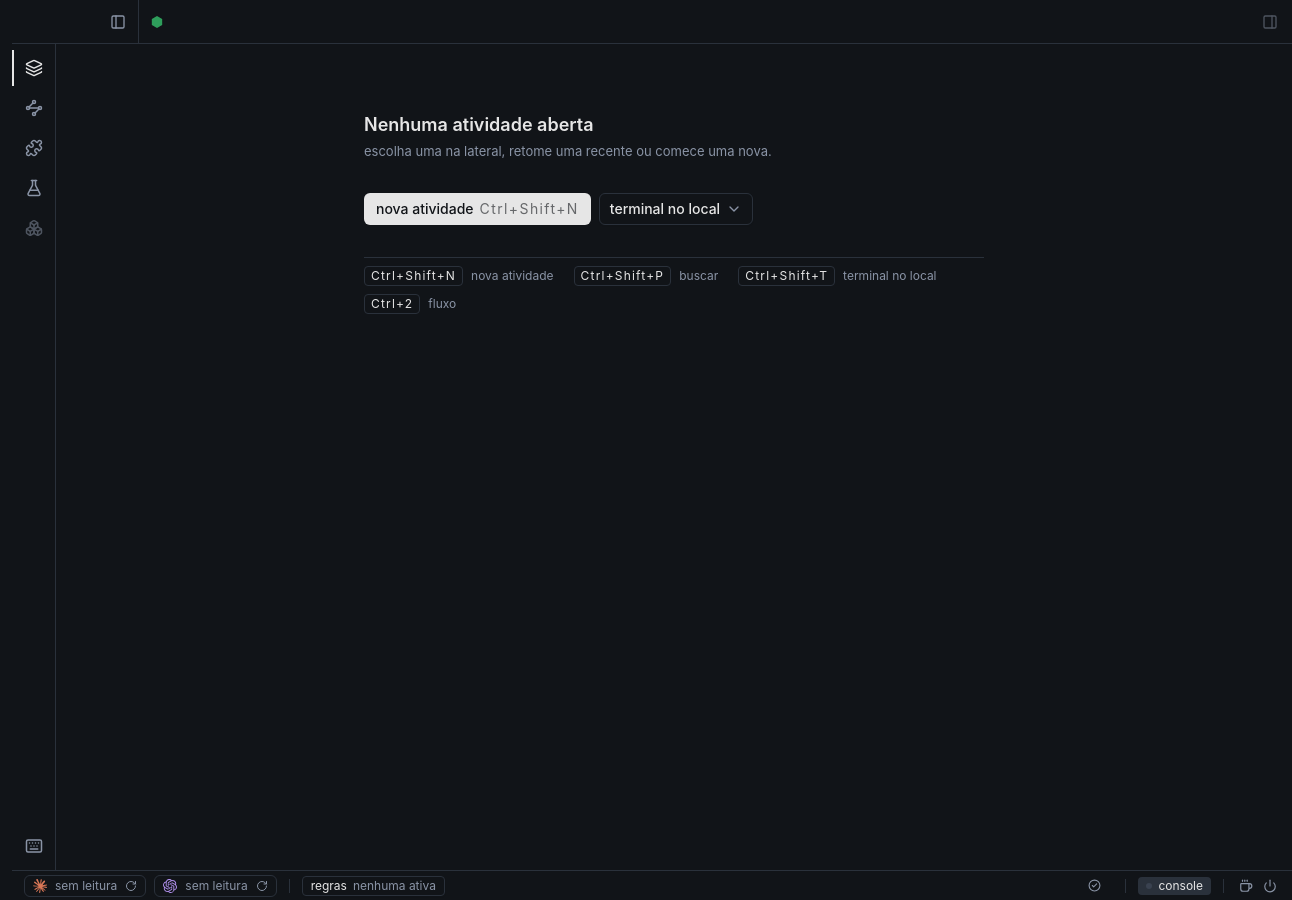
Test: Cmd+Shift+B hides the right panel, its body still mounted, and brings it back with Detalhes shown (#452)
Click the button named "fluxo" at [34, 108], box [12,90,56,126]
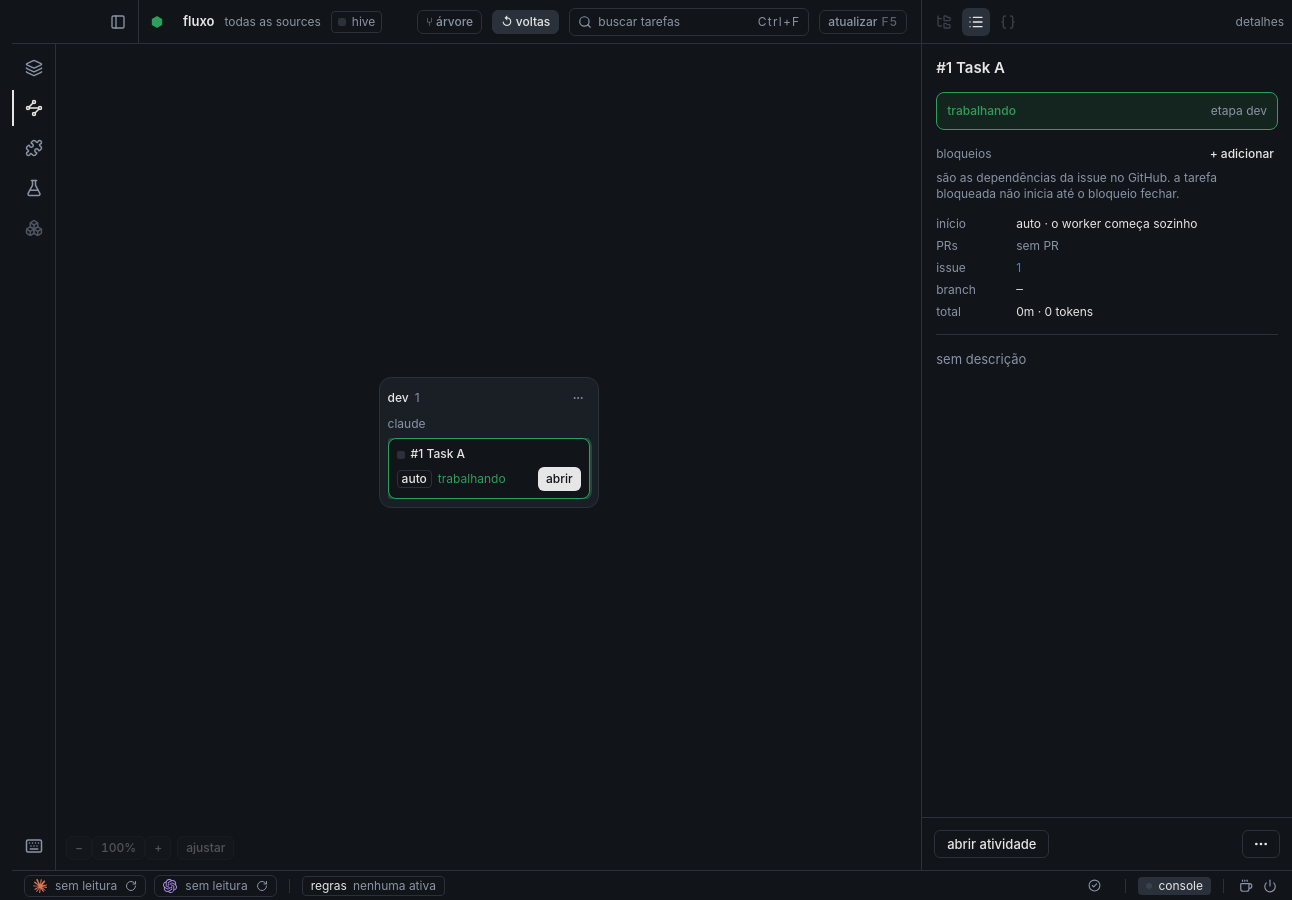
Check: the button named "detalhes" is pressed, box [962,8,990,36]
Press B
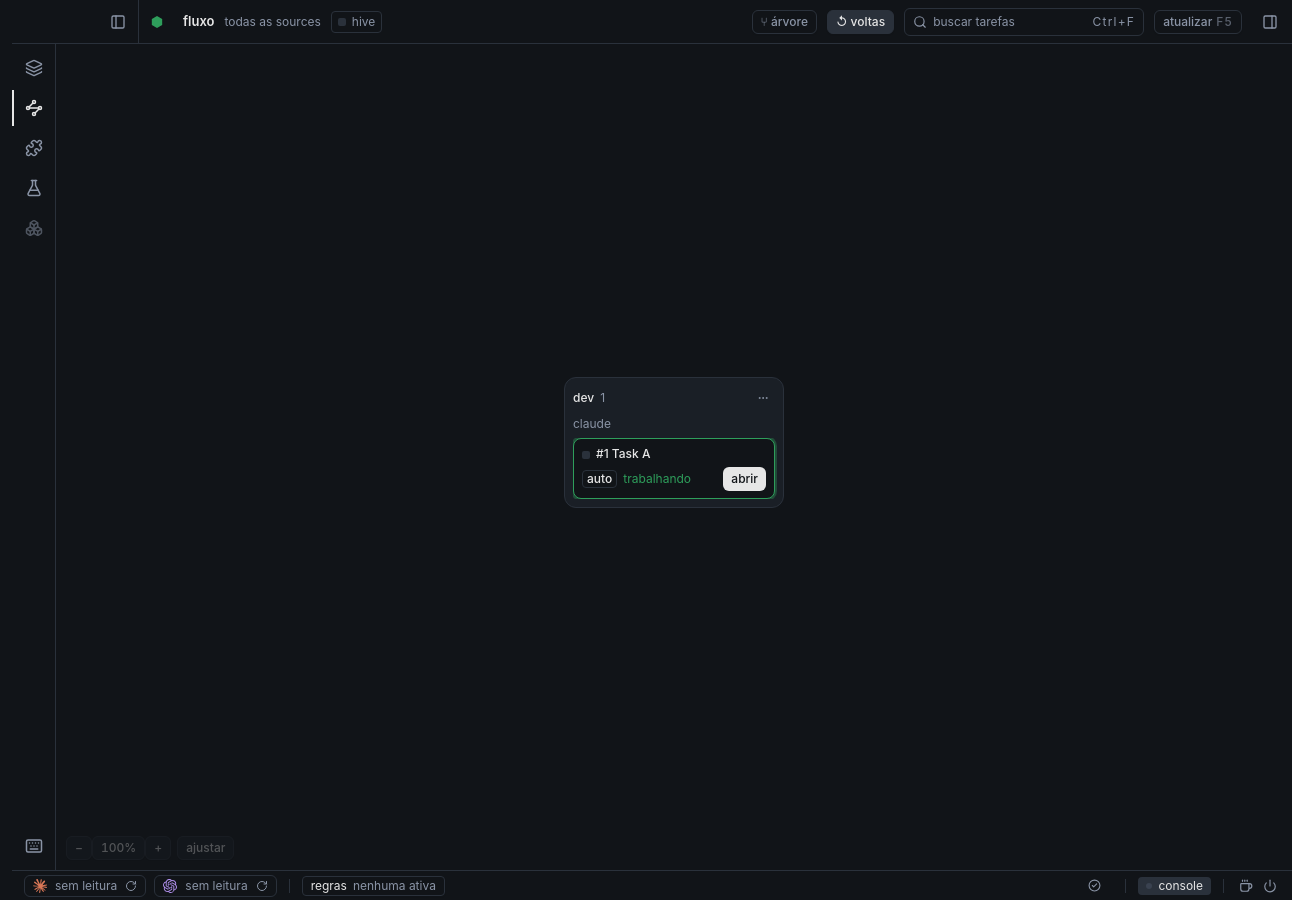
Check: the text "detalhe" is gone
Press B
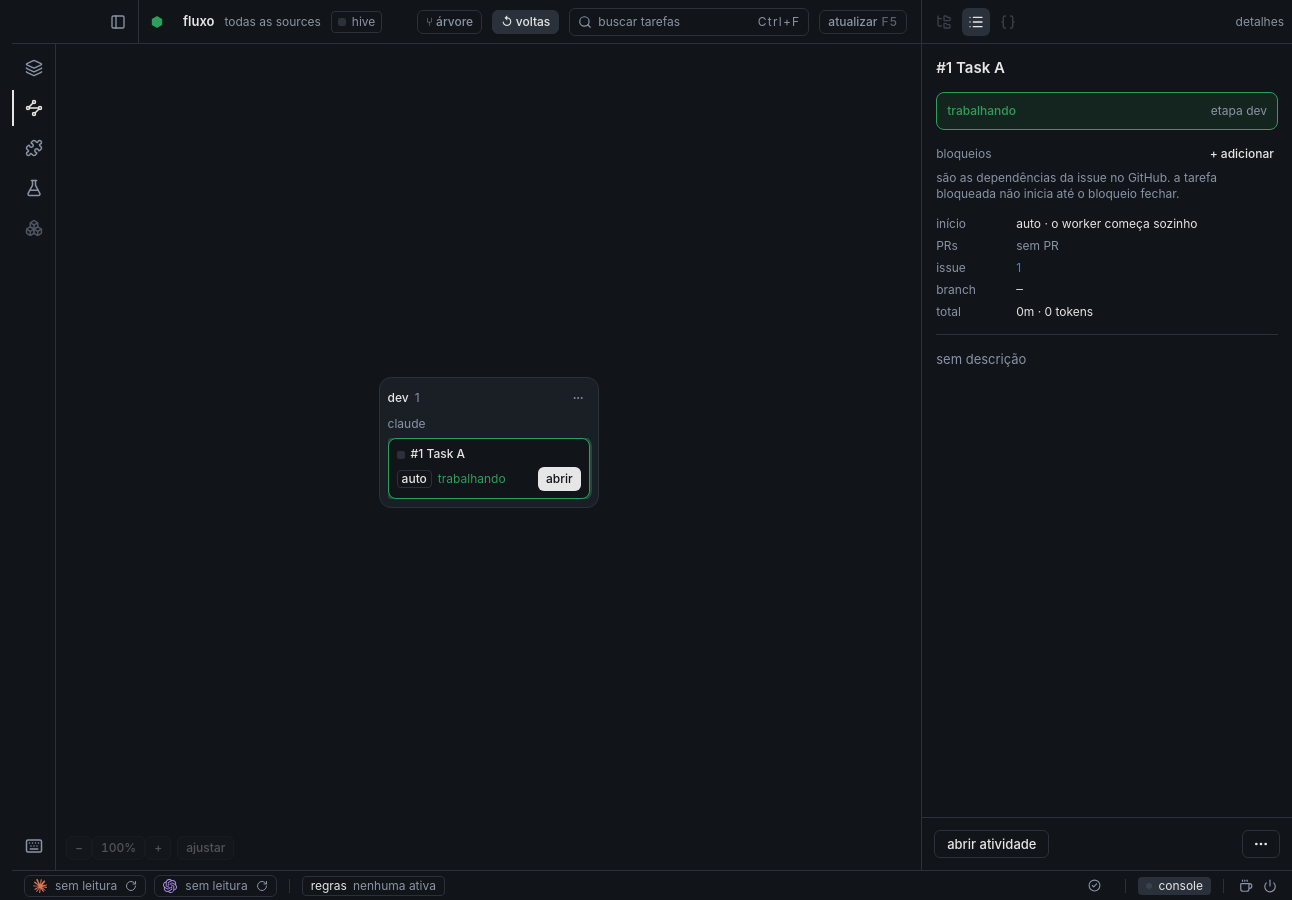
Check: the element named "detalhe" is shown, box [922,44,1291,870]
